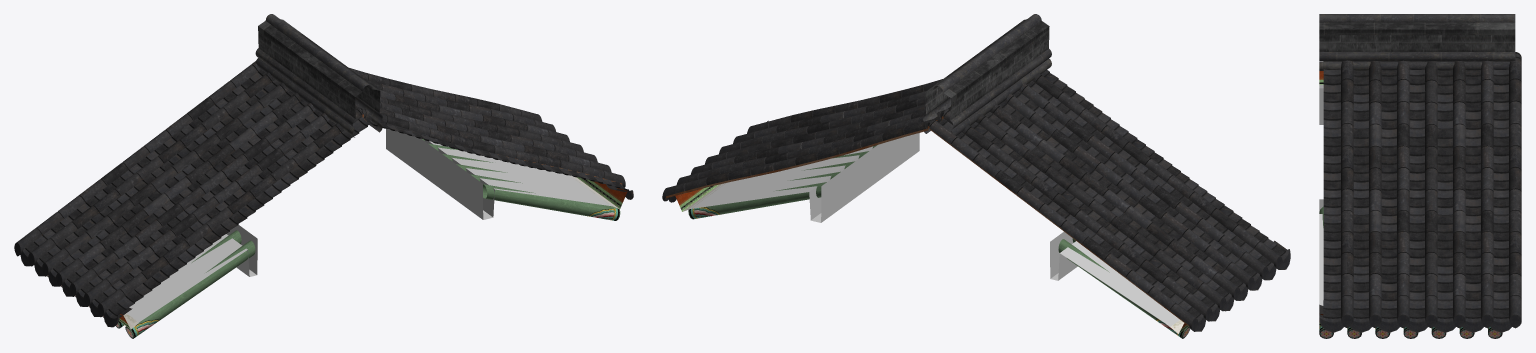
File: SM_Giwa02B_a6.fbx
The picture shows the model from 3 angles, left to right: view 1: azimuth 30°, elevation 25°; view 2: azimuth 150°, elevation 25°; view 3: azimuth 270°, elevation 25°; orthographic projection.
Visible parts, largest first — view 1: SM_Giwa02B_a6; view 2: SM_Giwa02B_a6; view 3: SM_Giwa02B_a6.
Part boxes in pixels (<box>): SM_Giwa02B_a6: <box>14,14,633,338</box>; SM_Giwa02B_a6: <box>662,14,1290,338</box>; SM_Giwa02B_a6: <box>1319,14,1521,338</box>.
Bounding box in the file's own units: 668 × 222 × 243.
